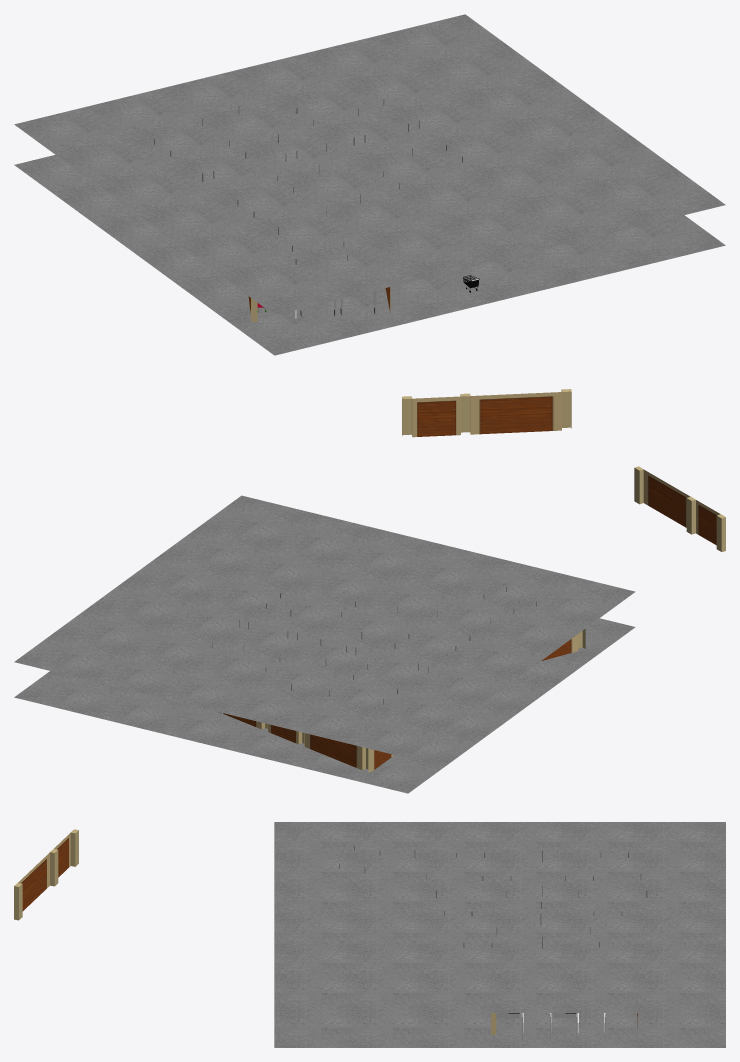
File: Escenario Final test-rendimiento.fbx
3 renders of one model, top to bottom at view 1: azimuth 30°, elevation 25°; view 2: azimuth 150°, elevation 25°; view 3: azimuth 270°, elevation 25°, orthographic. The views are drawn at different scales.
Parts seen in each view (by area): view 1: Plane.010, Plane, Muro.005; view 2: Plane.010, Plane, Muro.005, Muro.003; view 3: Plane.010, Plane, Muro.005.
Part boxes in pixels (box(x1,y1,x2,y2)): Plane.010: box(14, 14, 725, 314); Plane: box(14, 155, 725, 355); Muro.005: box(402, 389, 571, 437); Plane.010: box(14, 495, 635, 757); Plane: box(14, 618, 635, 793); Muro.005: box(634, 466, 725, 551); Muro.003: box(223, 713, 372, 772); Plane.010: box(274, 822, 725, 1012); Plane: box(274, 1013, 725, 1047); Muro.005: box(14, 829, 78, 920).
Bounding box in the file's own units: 3303 × 343 × 5209.
Materials: 257 (24 with a texture image).
